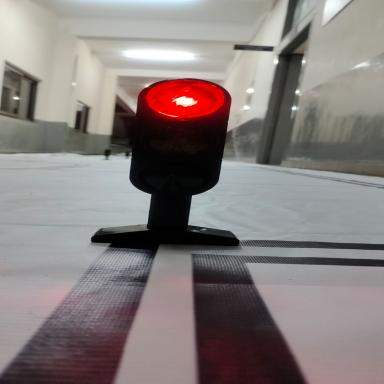traffic red: (113, 71, 274, 286)
